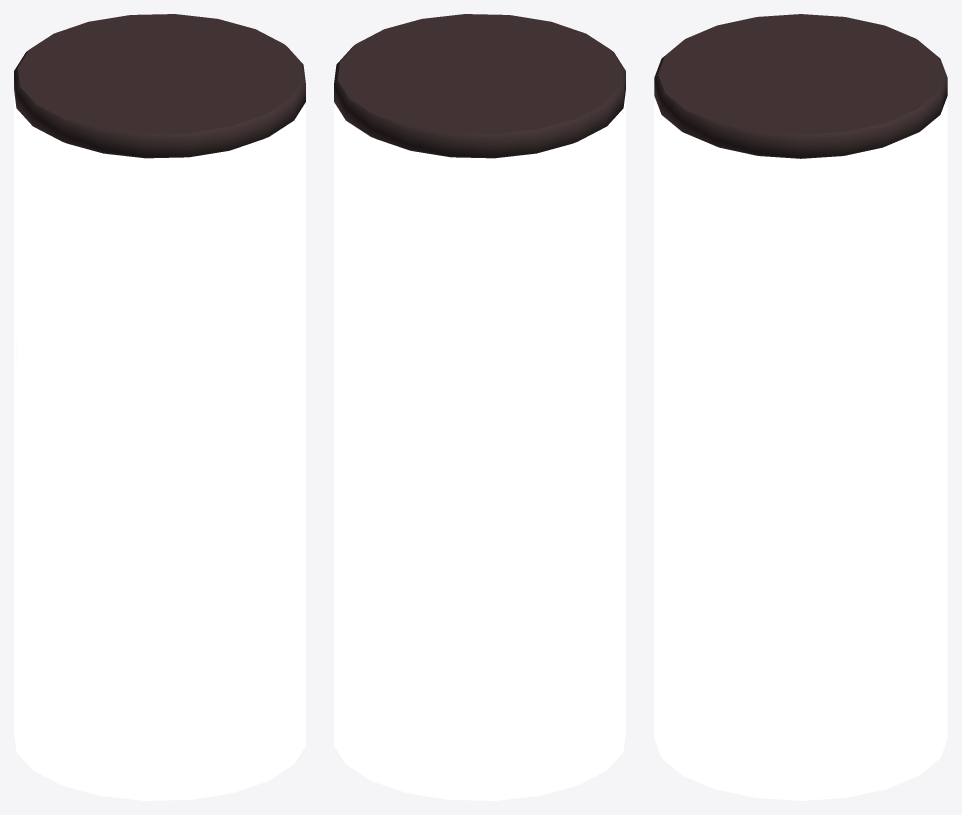
File: 008_pillar_var5.glb
3 renders of one model, left to right at view 1: azimuth 30°, elevation 25°; view 2: azimuth 150°, elevation 25°; view 3: azimuth 270°, elevation 25°, orthographic.
Visible parts, largest first — view 1: pillar; view 2: pillar; view 3: pillar.
Boxes of the visible parts, x1,y1,x2,y2 form: pillar: (14,14,305,800); pillar: (334,14,625,800); pillar: (654,14,947,800).
Size of the model in its own units: 0.75 by 1.87 by 0.75.
2 materials, 1 textured.
